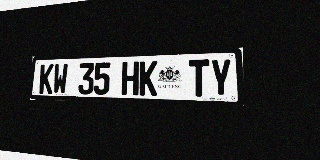3: (78, 63, 94, 95)
5: (94, 62, 110, 95)
H: (121, 61, 139, 95)
K: (139, 61, 158, 96), (39, 64, 54, 94)
T: (189, 59, 209, 97)
W: (53, 63, 68, 94)
Y: (210, 59, 232, 97)
